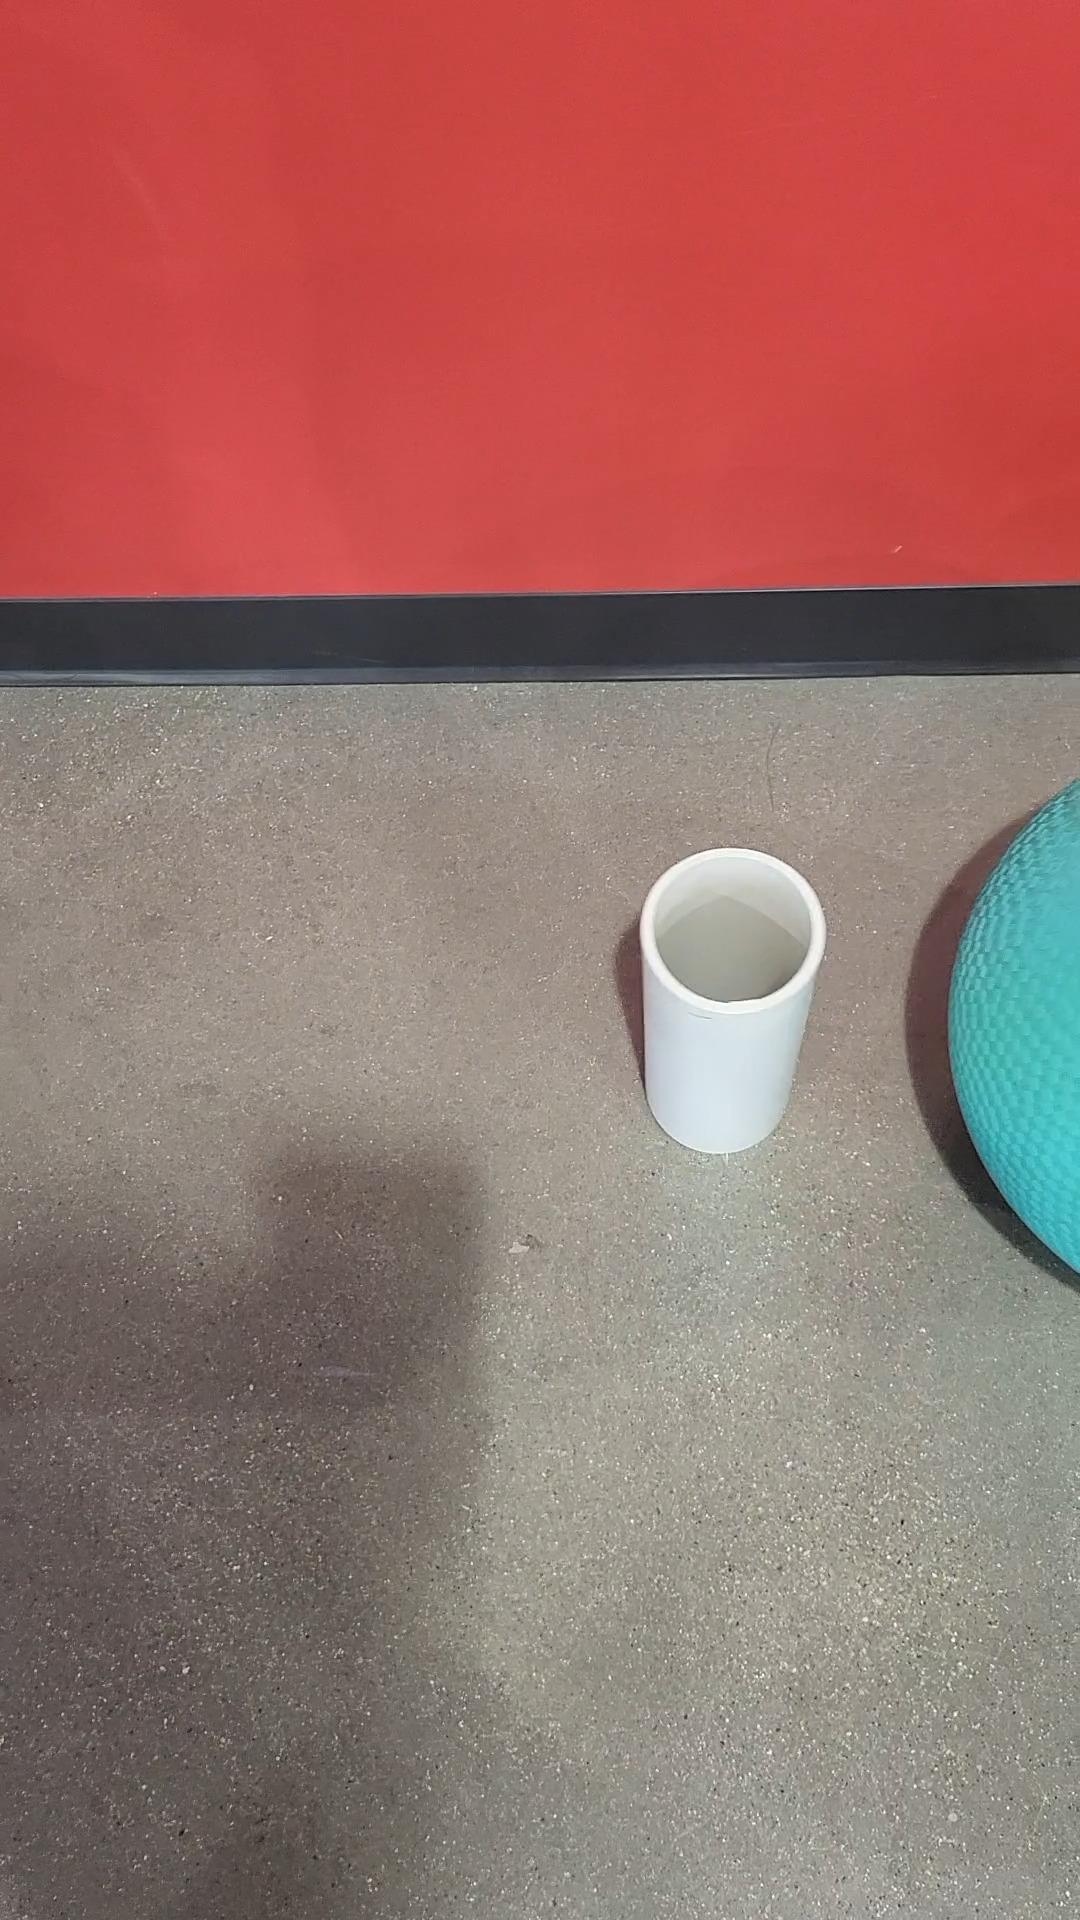algae: (943, 773, 1079, 1276)
coral: (637, 844, 828, 1158)
